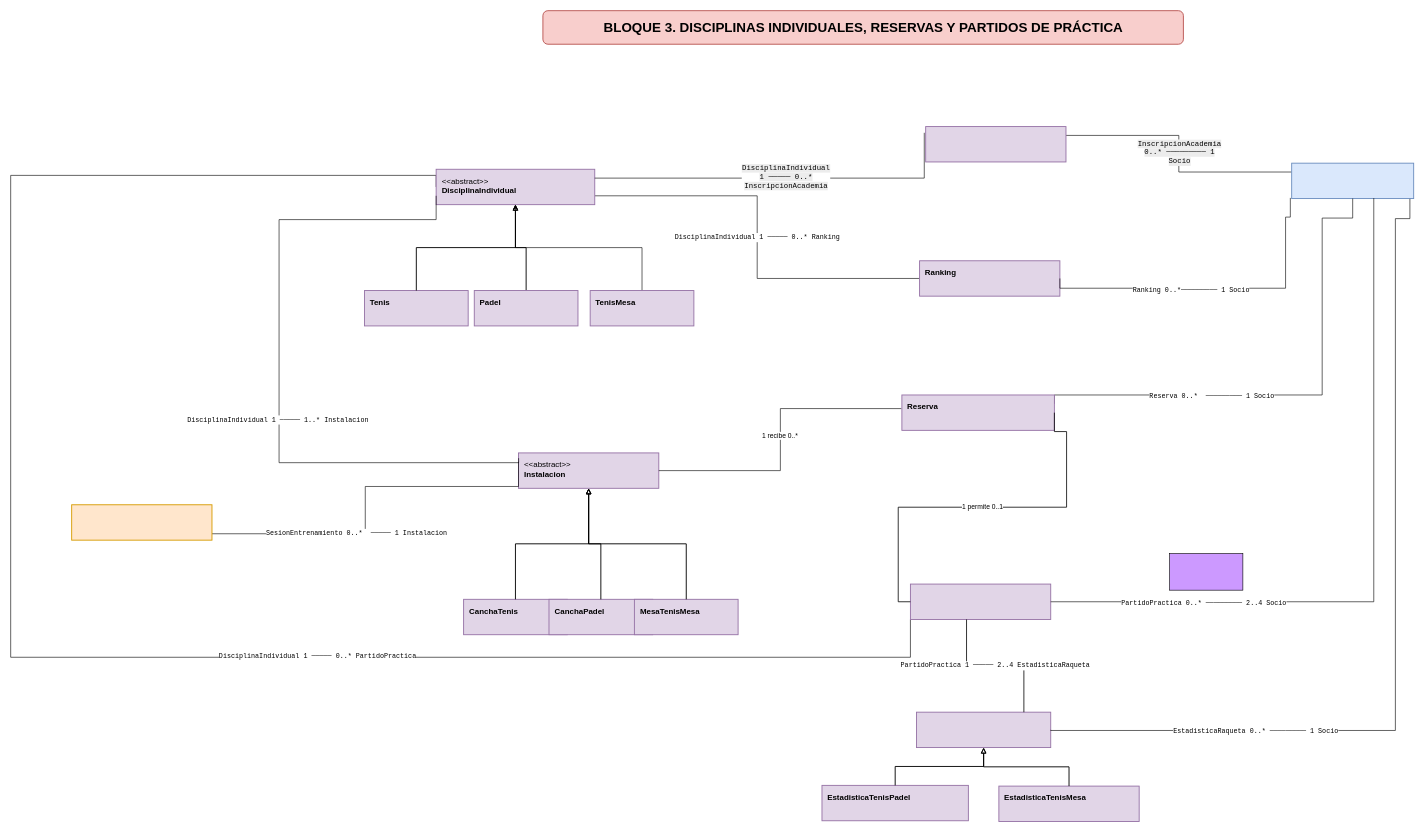
The diagram is 1425 pixels wide and 833 high, and some of its shapes have lost their labels. The centre of each missing label's shape, as x and y in pixels:
"2 o 4 jugadores, nunca 3; pádel siempre 4" belongs at point (1206, 571).
"<<abstract>> EstadisticaRaqueta" belongs at point (983, 729).
"InscripcionAcademia" belongs at point (995, 144).
"PartidoPractica" belongs at point (980, 601).
"SesionEntrenamiento" belongs at point (141, 522).
"Socio" belongs at point (1352, 180).
